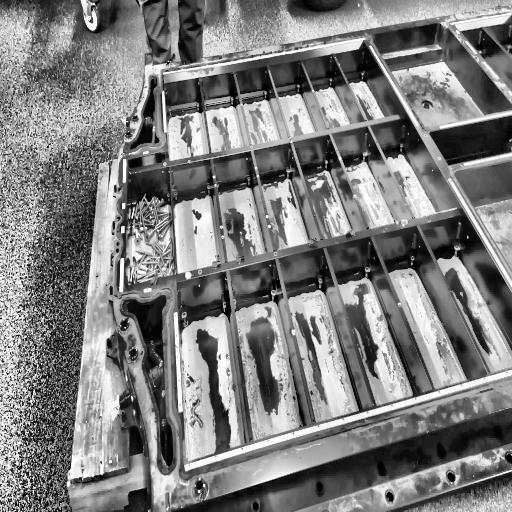b_casing: (113, 2, 512, 512)
